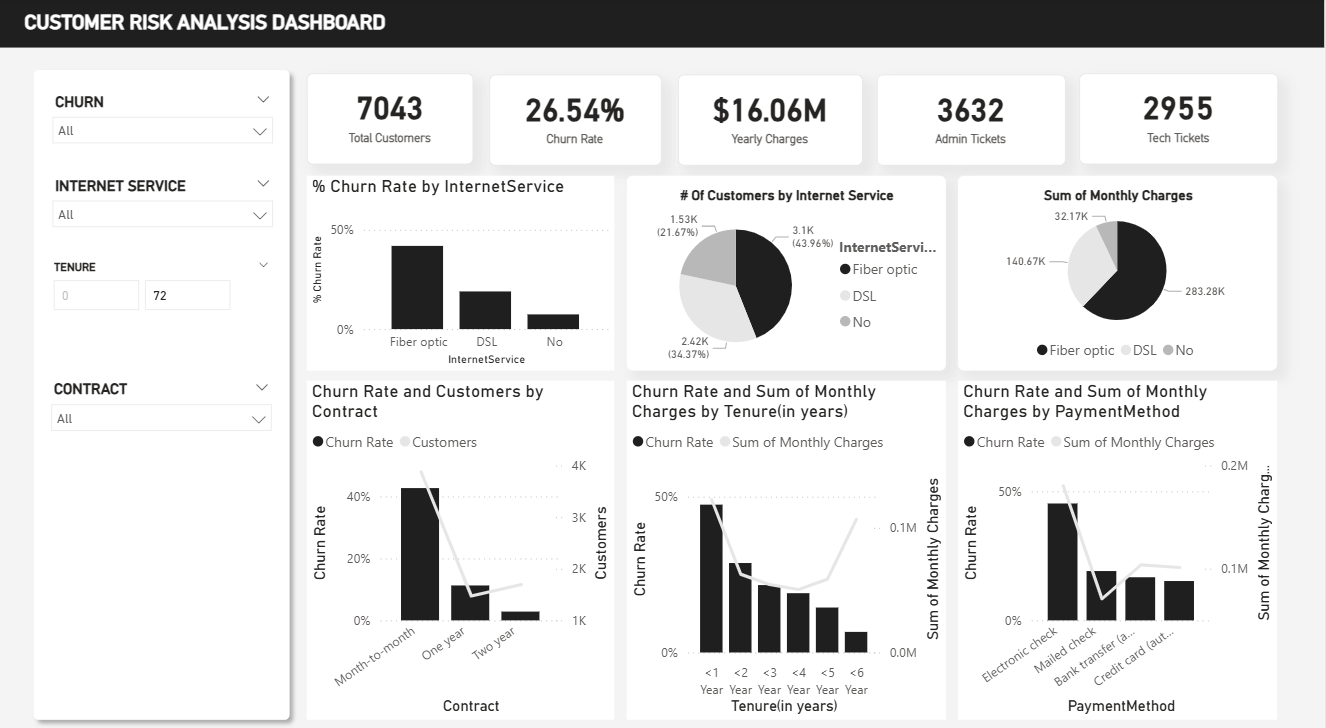

The page's visual inventory and layout, read from the dashboard file:
{"tool":"powerbi","page":{"name":"Customer Risk Analysis","canvas":[1280,720],"ordinal":1},"visuals":[{"type":"shape","box":[0,0,1280,49],"z":0},{"type":"textbox","box":[21,8,438,33],"z":1000},{"type":"shape","box":[25,61,265,645],"z":2000},{"type":"slicer","fields":{"Values":["Churn.Churn"]},"box":[42,82,233,81],"z":3000},{"type":"slicer","fields":{"Values":["Churn.InternetService"]},"box":[42,163,233,81],"z":4000},{"type":"slicer","fields":{"Values":["Churn.tenure"]},"box":[41,244,233,97],"z":5000},{"type":"slicer","fields":{"Values":["Churn.Contract"]},"box":[41,360,233,81],"z":6000},{"type":"card","fields":{"Values":["CountNonNull(01 Churn-Dataset.customerID)"]},"box":[298,74,161,88],"z":7000},{"type":"card","fields":{"Values":["Churn.% Churn Rate"]},"box":[474,75,166,88],"z":8000},{"type":"card","fields":{"Values":["Sum(Churn.TotalCharges)"]},"box":[656,75,178,88],"z":9000},{"type":"card","fields":{"Values":["Sum(Churn.numAdminTickets)"]},"box":[848,75,182,88],"z":10000},{"type":"card","fields":{"Values":["Sum(Churn.numTechTickets)"]},"box":[1043,74,192,88],"z":11000},{"type":"columnChart","fields":{"Y":["Churn.% Churn Rate"],"Category":["Churn.InternetService"]},"box":[298,172,297,188],"z":12000},{"type":"pieChart","title":"# Of Customers by Internet Service","fields":{"Y":["CountNonNull(Churn.customerID)"],"Category":["Churn.InternetService"]},"box":[607,172,308,188],"z":13000},{"type":"pieChart","title":"Sum of Monthly Charges","fields":{"Category":["Churn.InternetService"],"Y":["Sum(Churn.MonthlyCharges)"]},"box":[927,172,308,188],"z":14000},{"type":"lineStackedColumnComboChart","fields":{"Y2":["CountNonNull(Churn.customerID)"],"Y":["Churn.% Churn Rate"],"Category":["Churn.Contract"]},"box":[298,370,297,327],"z":15000},{"type":"lineStackedColumnComboChart","fields":{"Y":["Churn.% Churn Rate"],"Y2":["Sum(Churn.MonthlyCharges)"],"Category":["Churn.Tenure(in years)"]},"box":[607,370,308,327],"z":16000},{"type":"lineStackedColumnComboChart","fields":{"Y":["Churn.% Churn Rate"],"Y2":["Sum(Churn.MonthlyCharges)"],"Category":["Churn.PaymentMethod"]},"box":[927,370,308,327],"z":17000}]}

Visuals, with their boxes in screenshot pixels (x1, y1, x2, y2), scaled from the page's 1280x720 canvas onto the 1326x728 screenshot:
shape: (0,0,1325,50)
textbox: (22,8,475,41)
shape: (26,62,300,714)
slicer - Churn.Churn: (44,83,285,165)
slicer - Churn.InternetService: (44,165,285,247)
slicer - Churn.tenure: (42,247,284,345)
slicer - Churn.Contract: (42,364,284,446)
card - CountNonNull(01 Churn-Dataset.customerID): (309,75,475,164)
card - Churn.% Churn Rate: (491,76,663,165)
card - Sum(Churn.TotalCharges): (680,76,864,165)
card - Sum(Churn.numAdminTickets): (878,76,1067,165)
card - Sum(Churn.numTechTickets): (1080,75,1279,164)
columnChart - Churn.% Churn Rate x Churn.InternetService: (309,174,616,364)
"# Of Customers by Internet Service" pieChart: (629,174,948,364)
"Sum of Monthly Charges" pieChart: (960,174,1279,364)
lineStackedColumnComboChart - CountNonNull(Churn.customerID) x Churn.% Churn Rate: (309,374,616,705)
lineStackedColumnComboChart - Churn.% Churn Rate x Sum(Churn.MonthlyCharges): (629,374,948,705)
lineStackedColumnComboChart - Churn.% Churn Rate x Sum(Churn.MonthlyCharges): (960,374,1279,705)
